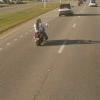Car: (53, 2, 75, 20)
